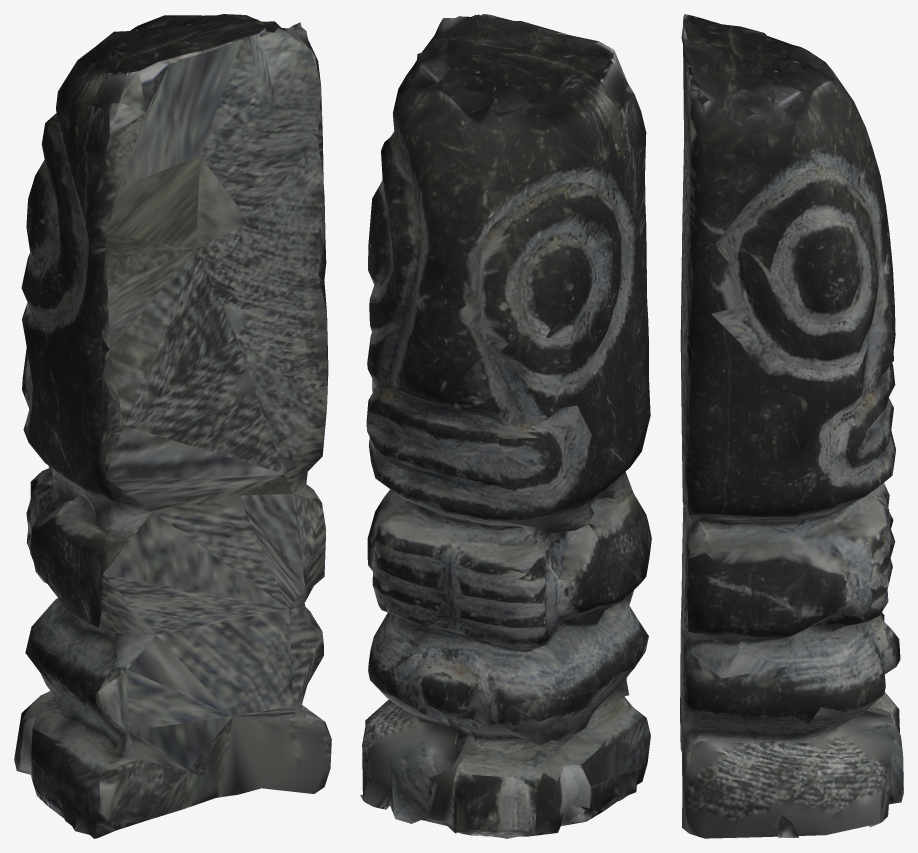
The model's file is pequeno_totem_replica.glb.
3 renders of one model, left to right at view 1: azimuth 30°, elevation 25°; view 2: azimuth 150°, elevation 25°; view 3: azimuth 270°, elevation 25°, orthographic. The views are drawn at different scales.
Visible parts, largest first — view 1: Object_3; view 2: Object_3; view 3: Object_3.
Boxes of the visible parts, x1,y1,x2,y2 form: Object_3: (14, 14, 331, 838); Object_3: (360, 14, 651, 838); Object_3: (680, 14, 903, 838).
Size of the model in its own units: 2.16 by 6.58 by 1.8.
1 material, 1 textured.
